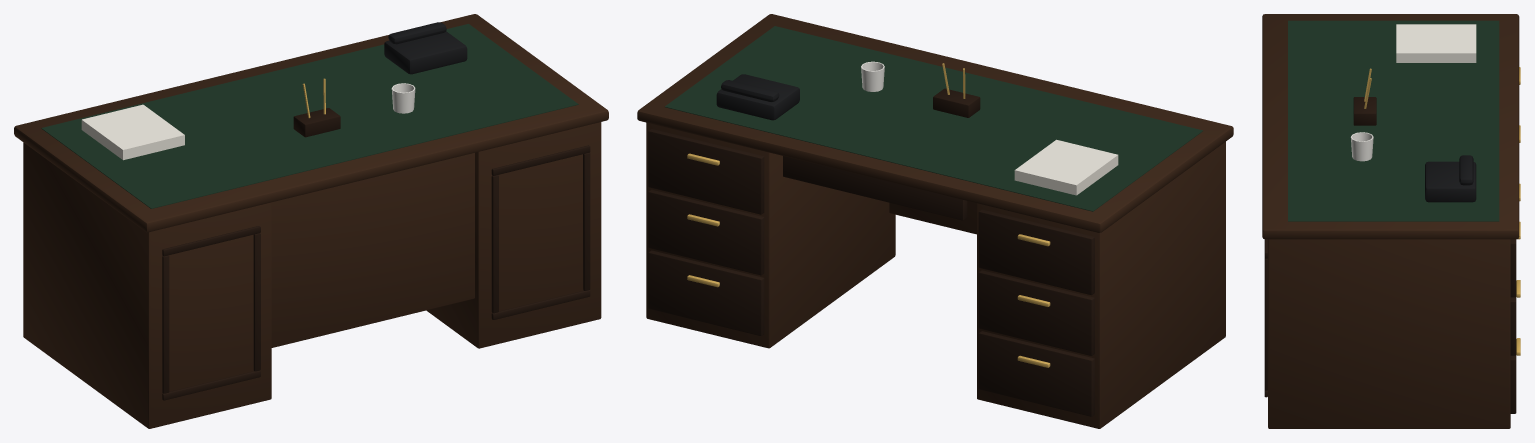
Rendered from meridian_manager_desk.glb.
The picture shows the model from 3 angles, left to right: view 1: azimuth 30°, elevation 25°; view 2: azimuth 150°, elevation 25°; view 3: azimuth 270°, elevation 25°; orthographic projection. The views are drawn at different scales.
Parts seen in each view (by area): view 1: meridian_manager_desk; view 2: meridian_manager_desk; view 3: meridian_manager_desk.
Part boxes in pixels (x1,y1,x2,y2): meridian_manager_desk: [14, 14, 608, 428]; meridian_manager_desk: [637, 14, 1233, 428]; meridian_manager_desk: [1262, 14, 1520, 428].
Bounding box in the file's own units: 1.8 × 0.9507 × 0.905.
